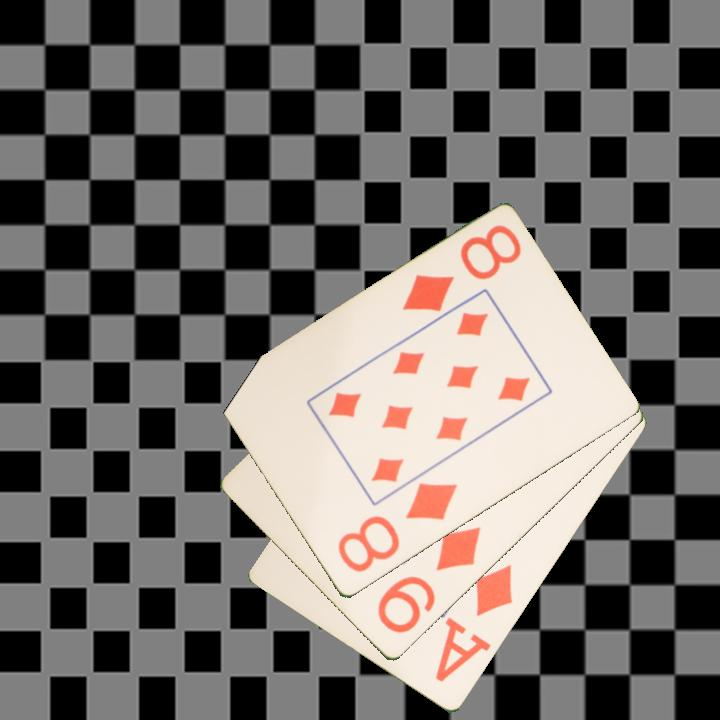8d: (334, 479, 461, 576), (398, 221, 524, 316)
9d: (374, 523, 484, 637)
Ad: (431, 561, 516, 686)
